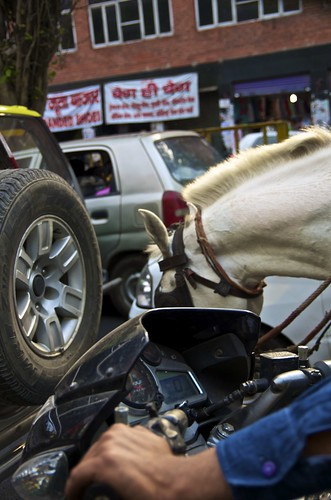animal: (125, 131, 327, 314)
building: (1, 1, 323, 125)
car: (64, 116, 221, 303)
sign: (101, 70, 203, 118), (38, 76, 108, 128)
window: (85, 1, 178, 42)
